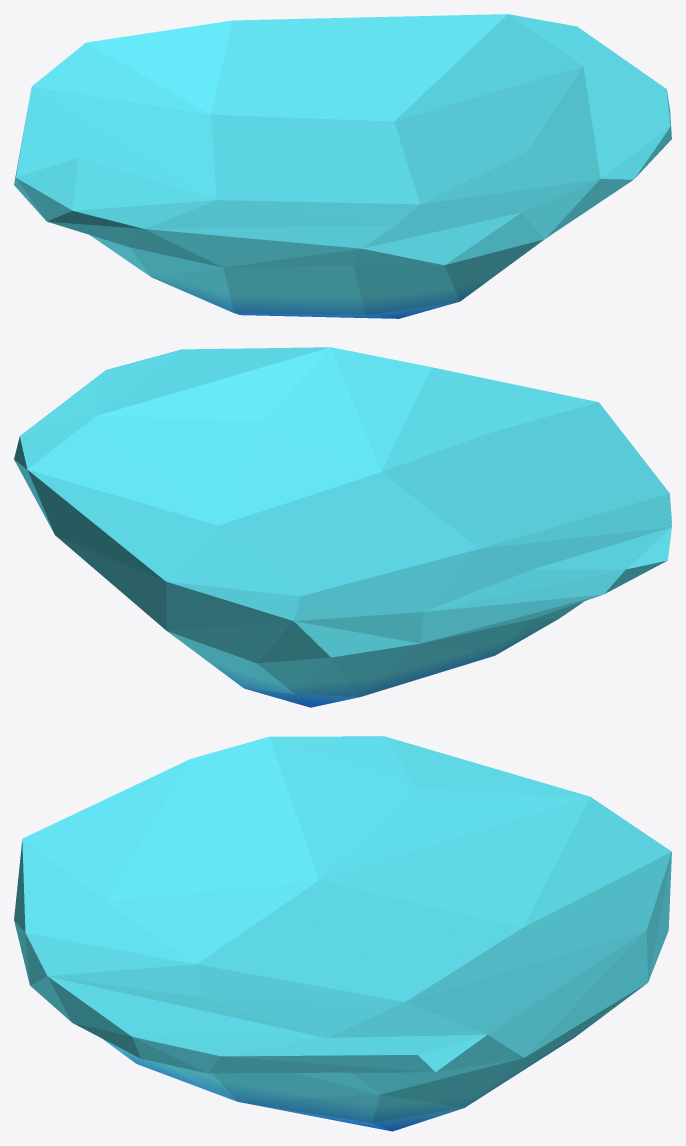
Rendered from SM_Coral_26.fbx.
3 views of the same model, one above another, from view 1: azimuth 30°, elevation 25°; view 2: azimuth 150°, elevation 25°; view 3: azimuth 270°, elevation 25° (orthographic). The views are drawn at different scales.
Visible parts, largest first — view 1: Coral_26; view 2: Coral_26; view 3: Coral_26.
Boxes of the visible parts, x1=… form: Coral_26: x1=14, y1=14, x2=671, y2=318; Coral_26: x1=14, y1=347, x2=671, y2=707; Coral_26: x1=14, y1=736, x2=671, y2=1131.
Bounding box in the file's own units: 191 × 52.49 × 165.
